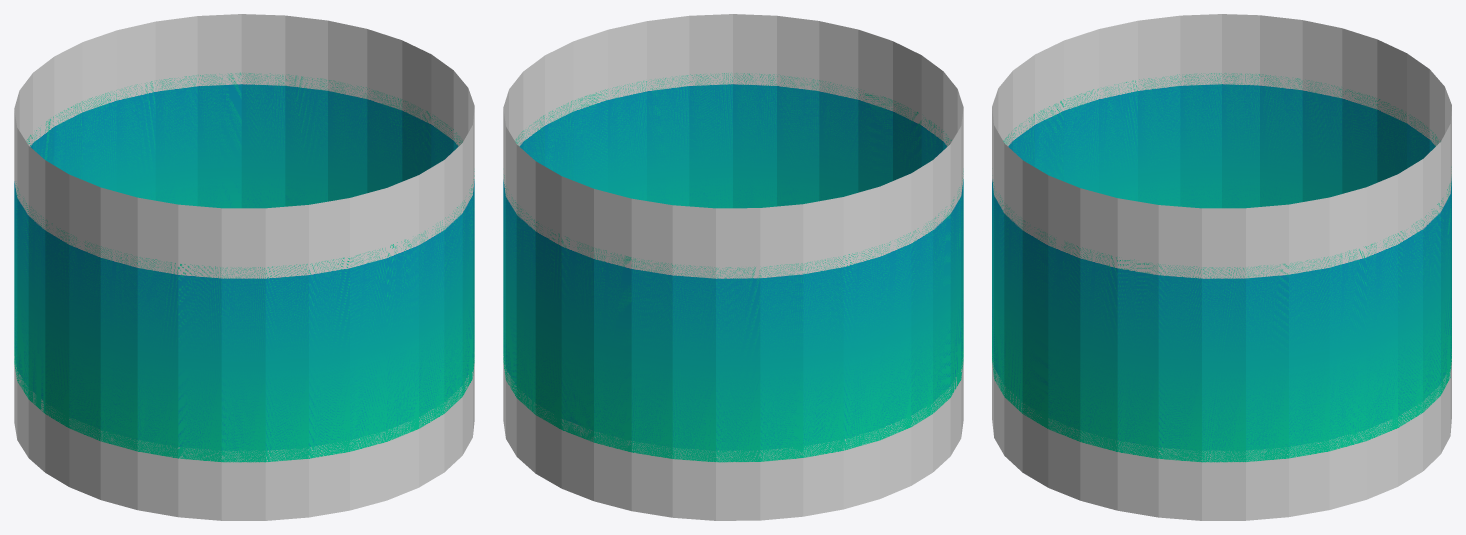
The model's file is Bubble-v14.fbx.
The picture shows the model from 3 angles, left to right: view 1: azimuth 30°, elevation 25°; view 2: azimuth 150°, elevation 25°; view 3: azimuth 270°, elevation 25°; orthographic projection.
Parts seen in each view (by area): view 1: Plane.001; view 2: Plane.001; view 3: Plane.001.
Part boxes in pixels (x1,y1,x2,y2): Plane.001: [14, 14, 474, 520]; Plane.001: [503, 14, 963, 520]; Plane.001: [992, 14, 1451, 520].
Bounding box in the file's own units: 100 × 75 × 100.
Materials: 1 (1 with a texture image).
